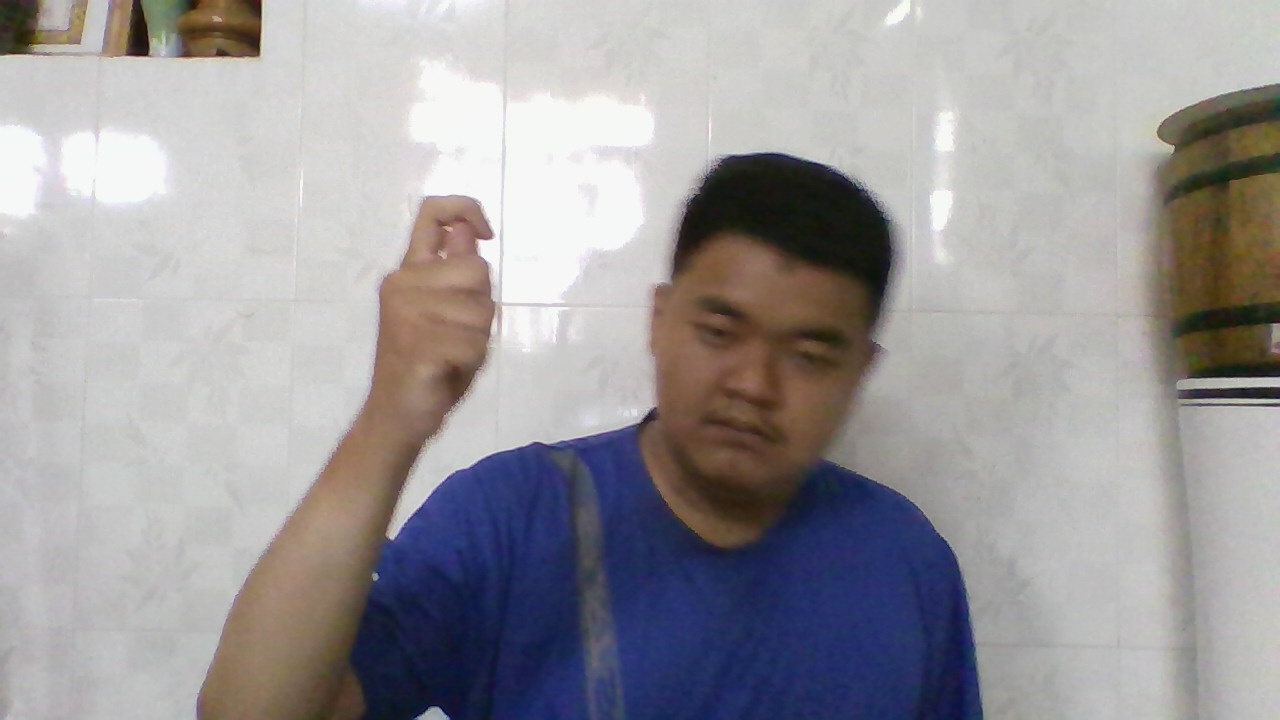X: (379, 195, 503, 430)
